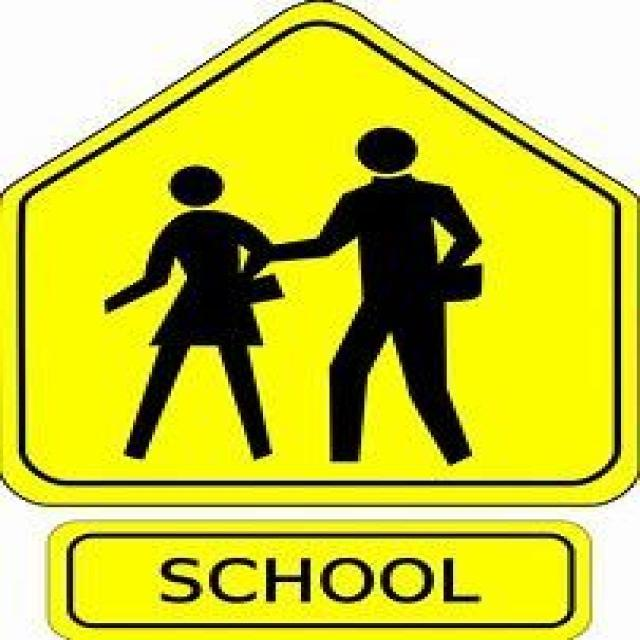school ahead: (26, 28, 615, 494)
